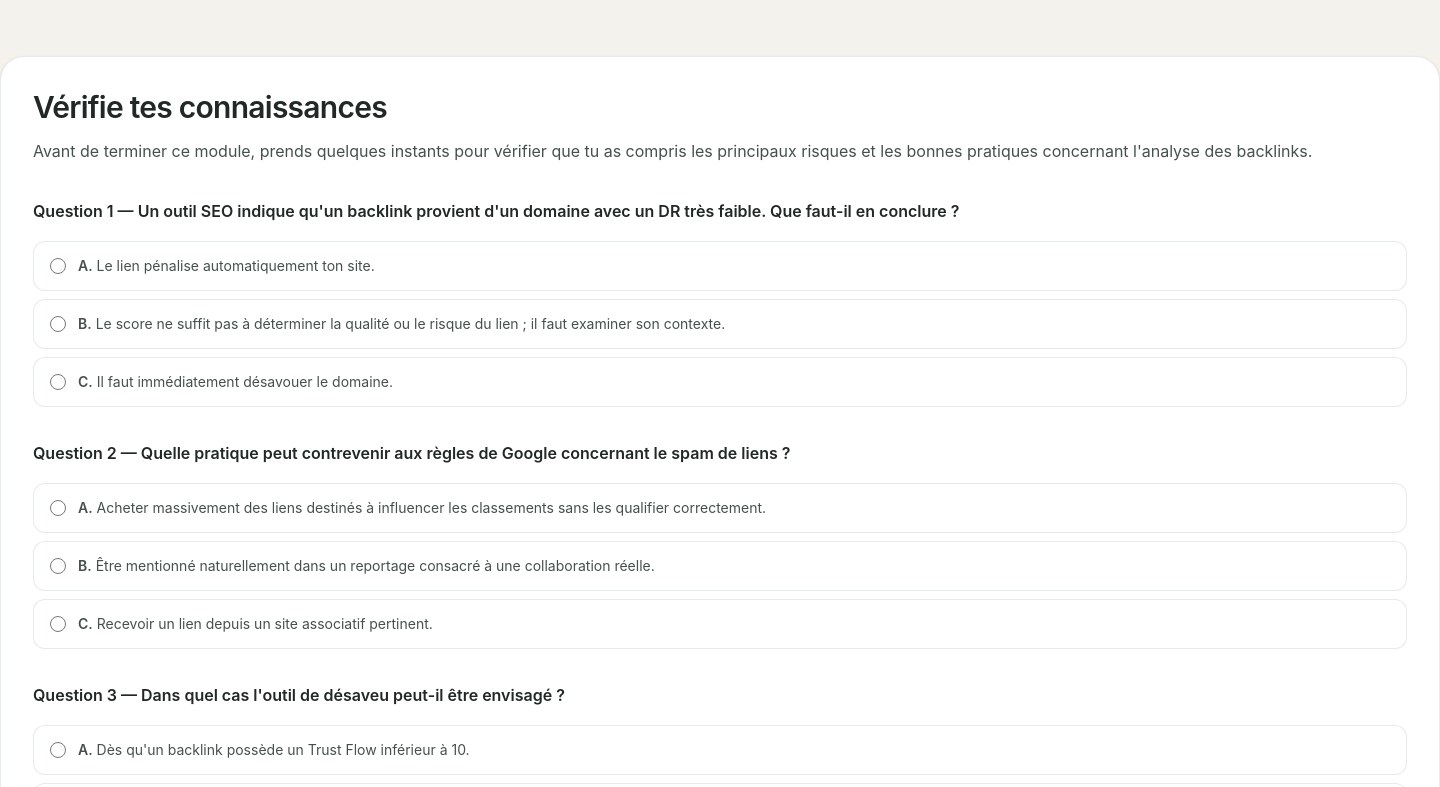
it: questionnaire de la vingt-deuxième leçon SEO › corrige les quatre réponses après validation
Expected: the text "Question 4 : B." is not shown
Click the radio button named "quiz-question-1" at (58, 324), box [50, 316, 66, 332]
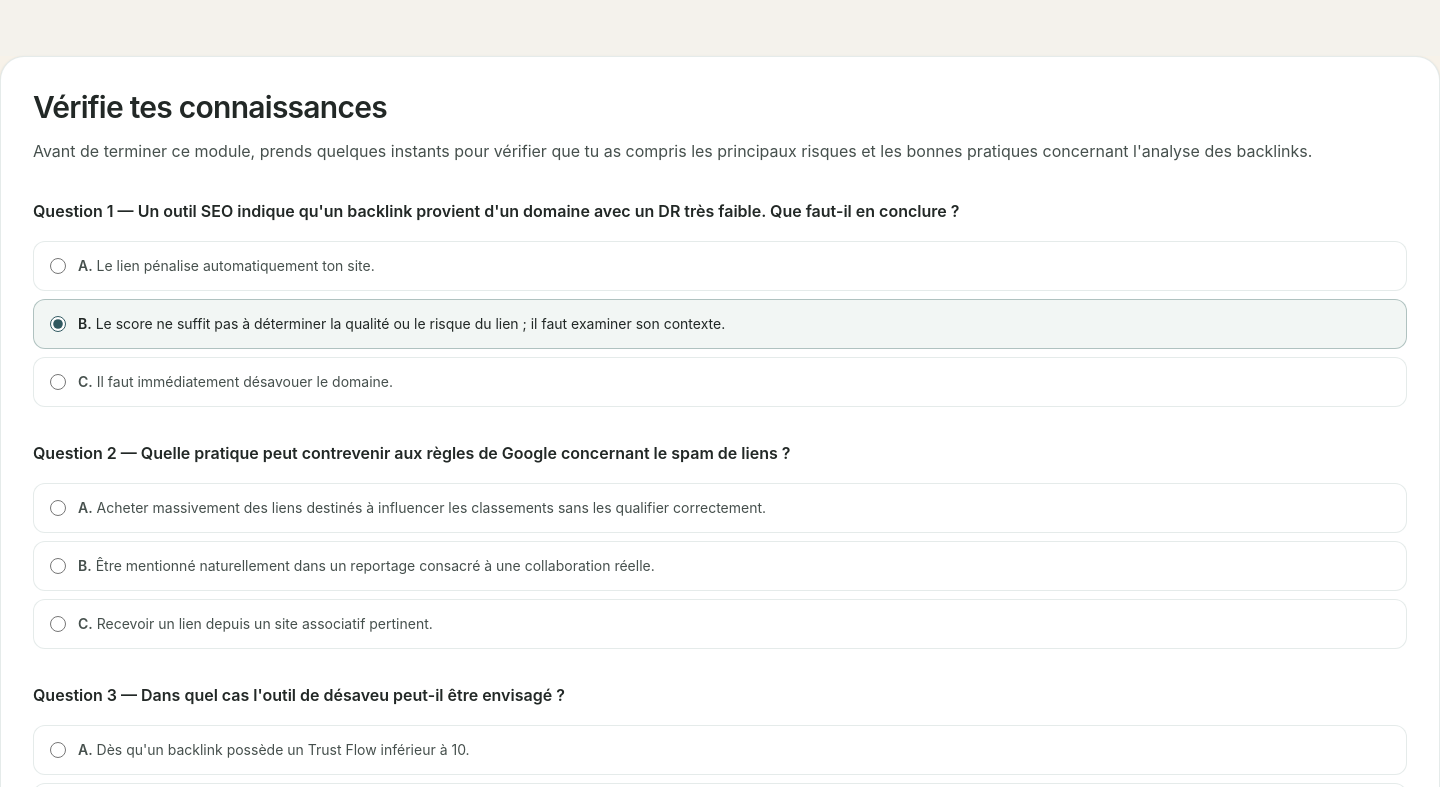
Click the radio button named "quiz-question-2" at (58, 508), box [50, 500, 66, 516]
(page scrolled)
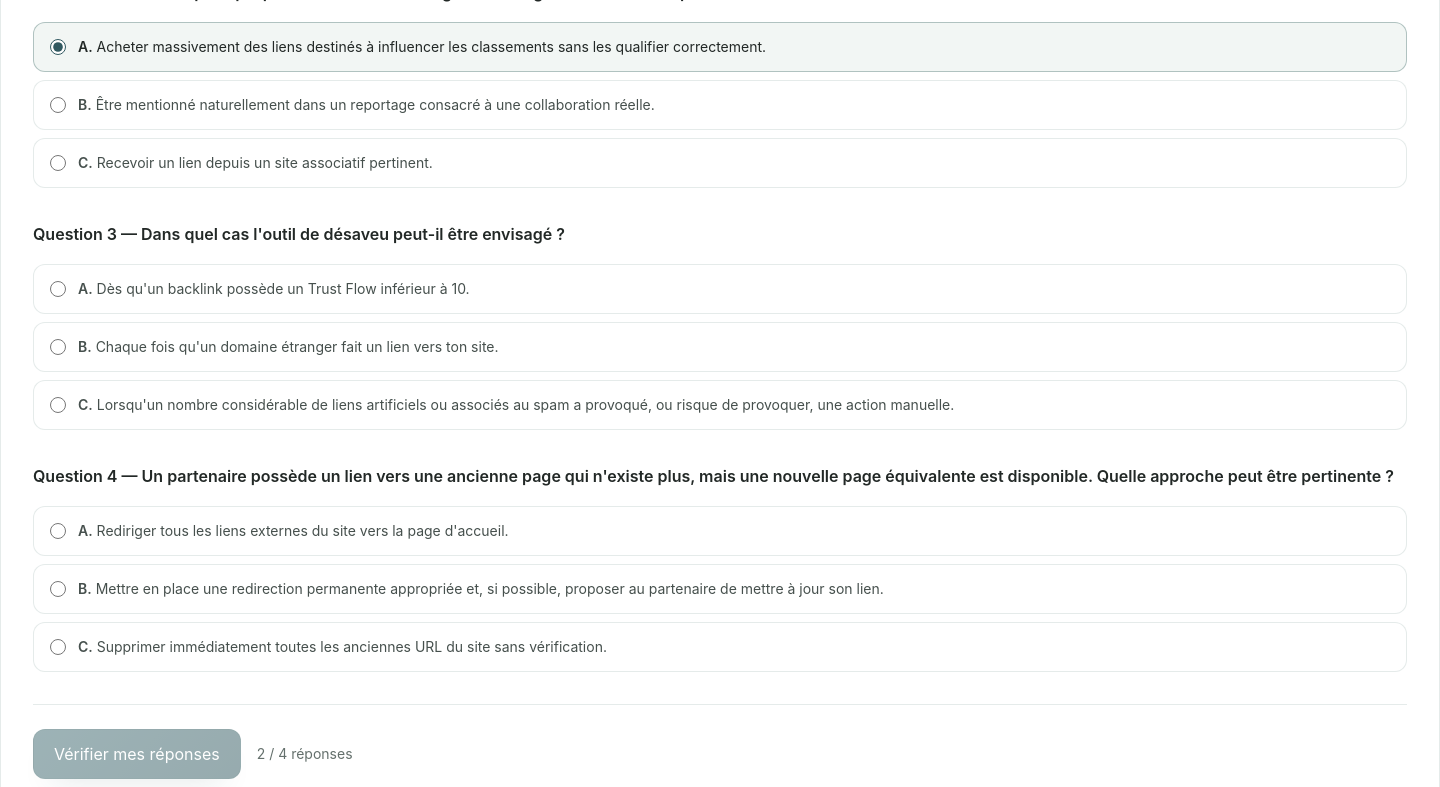
Click the radio button named "quiz-question-3" at (58, 405), box [50, 397, 66, 413]
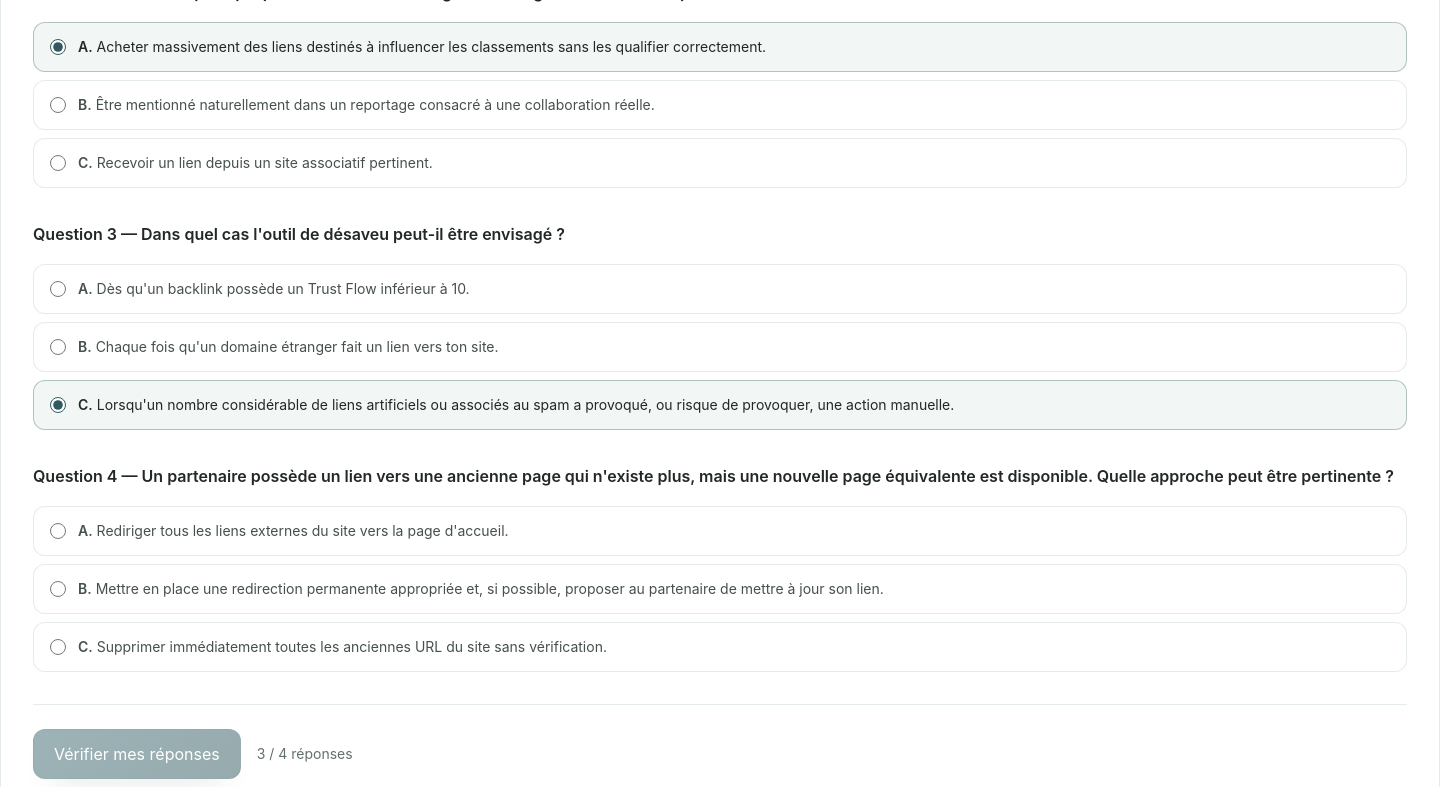
Click the radio button named "quiz-question-4" at (58, 589), box [50, 581, 66, 597]
(page scrolled)
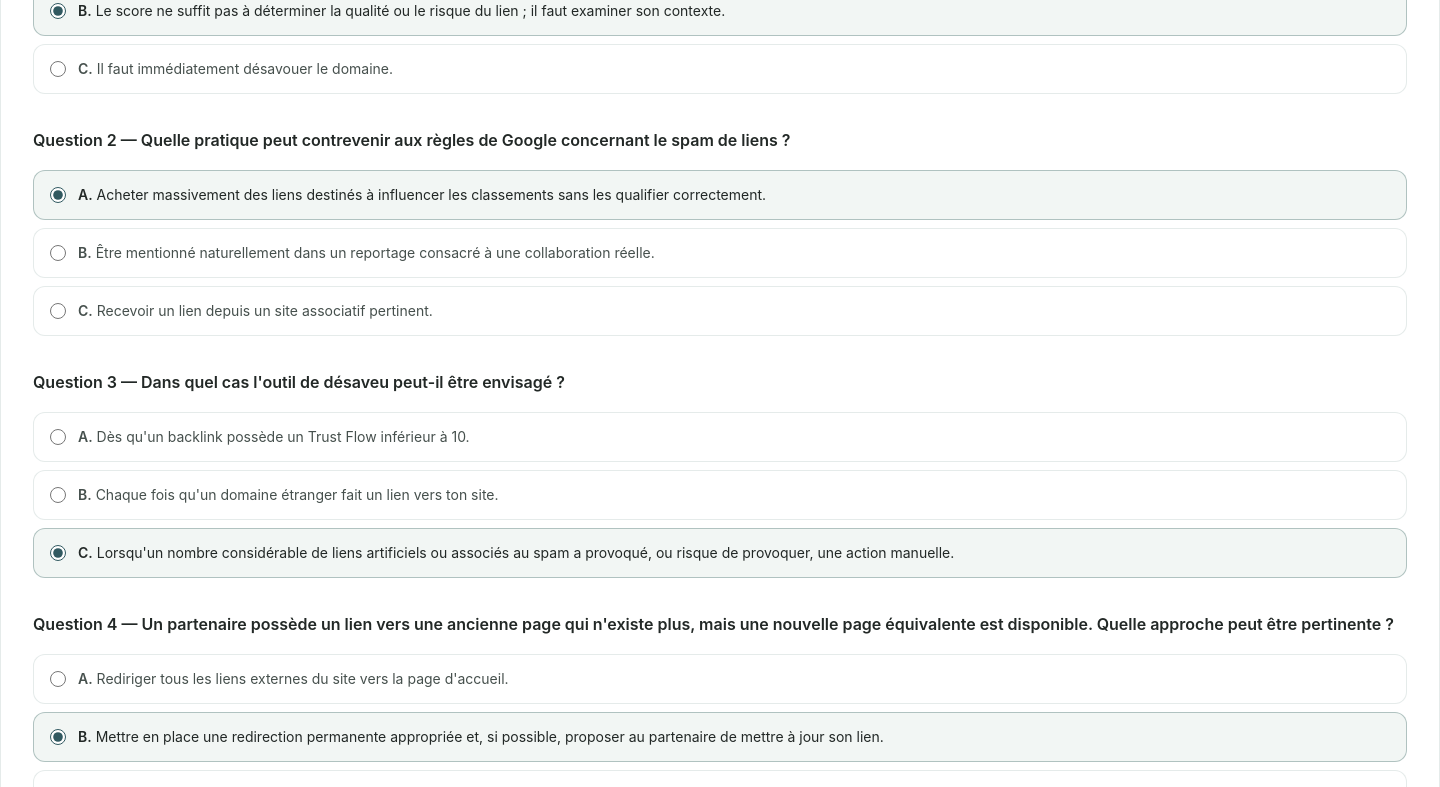
Submit the form
(page scrolled)
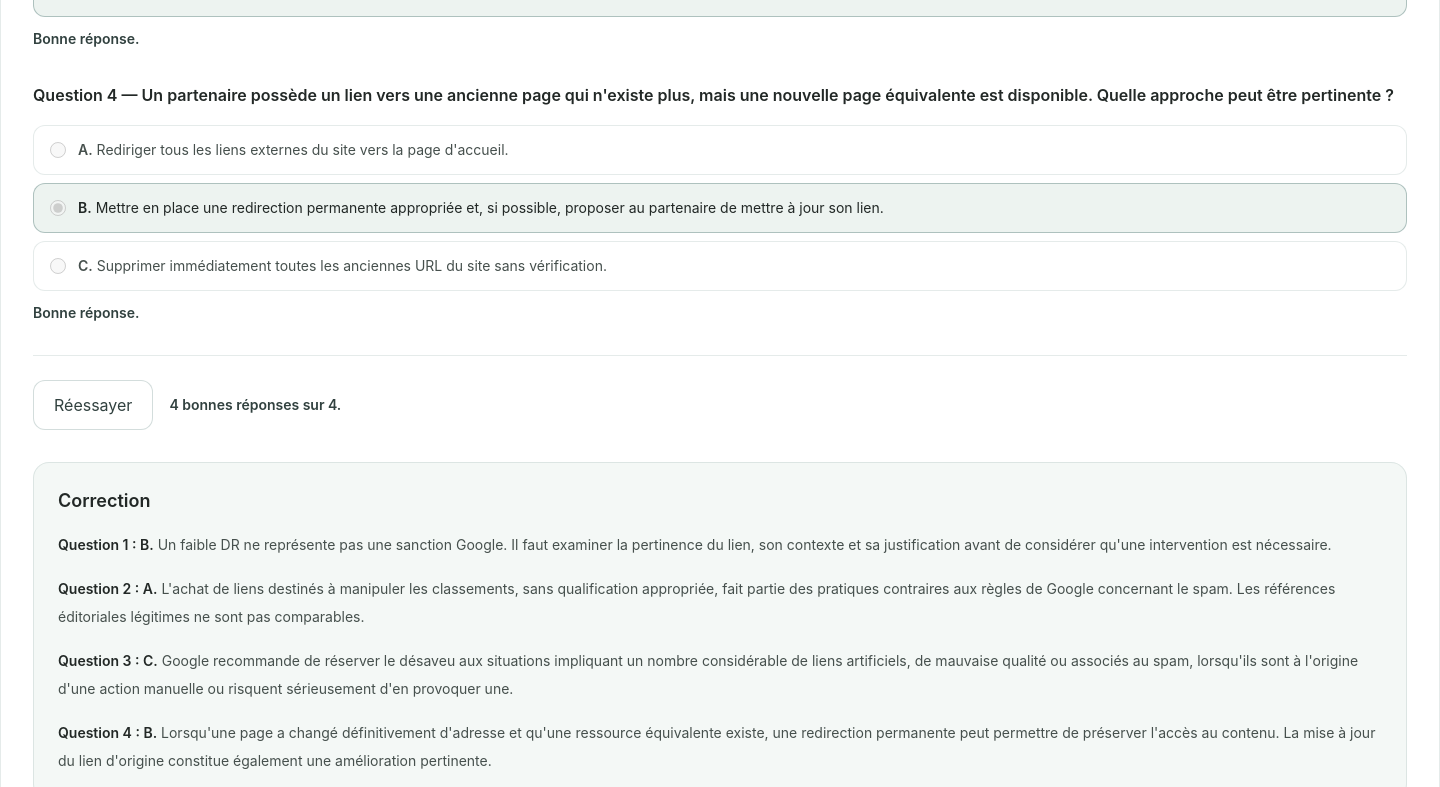
Now the message "4 bonnes réponses sur 4." is shown, box [169, 395, 341, 415]
Now the text "Question 4 : B." is shown, box [58, 724, 157, 741]
Now the text "La mise à jour du lien d'origine" is shown, box [58, 724, 1375, 769]
